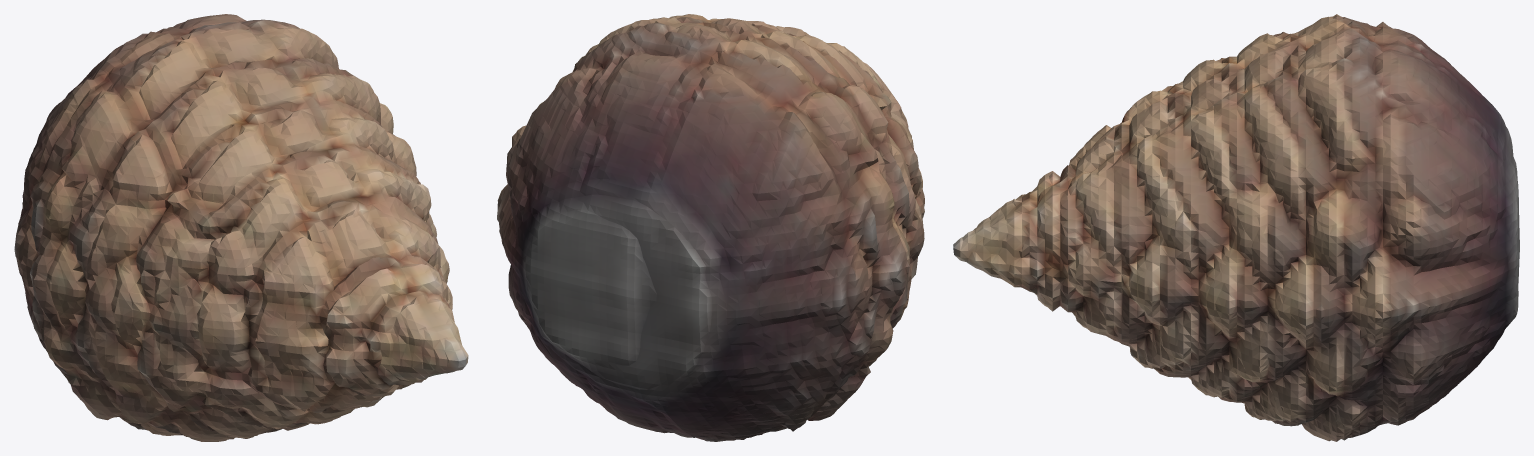
The picture shows the model from 3 angles, left to right: view 1: azimuth 30°, elevation 25°; view 2: azimuth 150°, elevation 25°; view 3: azimuth 270°, elevation 25°; orthographic projection. The views are drawn at different scales.
Parts seen in each view (by area): view 1: world; view 2: world; view 3: world.
Part boxes in pixels (left/top/right/bottom): world: left=14, top=14, right=468, bottom=441; world: left=497, top=14, right=924, bottom=441; world: left=953, top=14, right=1519, bottom=441.
Bounding box in the file's own units: 0.757 × 0.7643 × 1.01.
